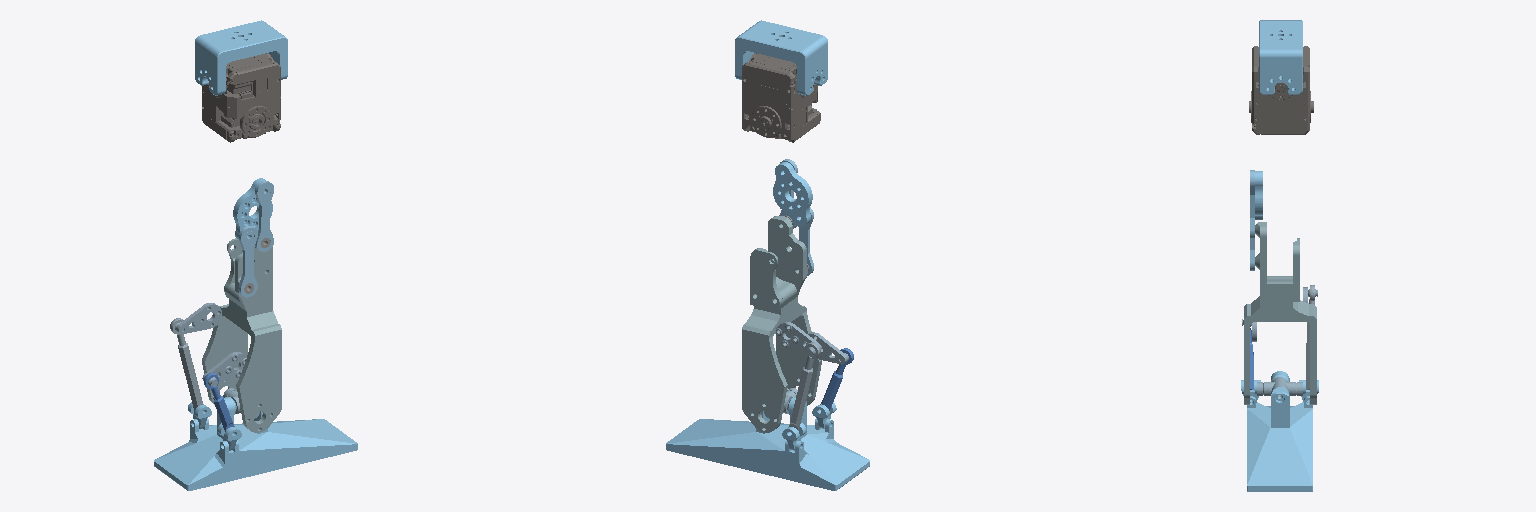
--- Facts derived from the render (not from the file) ---
3 views of the same robot in one strip: view 1: azimuth 30°, elevation 25°; view 2: azimuth 150°, elevation 25°; view 3: azimuth 270°, elevation 25° (orthographic).
Robot: left_leg_XM430 — 17 links, 16 joints (16 revolute); root link hip_yaw_link; default pose: all joints at 0.
Visible links, largest first — view 1: left_calf_link, ank_roll_link, hip_roll_link, hip_yaw_link, xm430_plate, knee_rod_2, knee_rod, ank_motor_rod_long, ank_motor_arm, ank_motor_arm_2, ank_motor_rod_short; view 2: left_calf_link, ank_roll_link, hip_roll_link, hip_yaw_link, xm430_plate, ank_motor_rod_long, ank_motor_arm, ank_motor_rod_short, ank_motor_arm_2; view 3: ank_roll_link, left_calf_link, hip_roll_link, hip_yaw_link, ank_pitch_link.
Boxes of the visible links, <box> form: left_calf_link: <box>202,234,281,432</box>; ank_roll_link: <box>154,397,357,490</box>; hip_roll_link: <box>202,53,280,142</box>; hip_yaw_link: <box>195,20,287,95</box>; xm430_plate: <box>233,178,272,239</box>; knee_rod_2: <box>238,226,257,297</box>; knee_rod: <box>255,180,273,251</box>; ank_motor_rod_long: <box>170,318,202,411</box>; ank_motor_arm: <box>175,303,221,333</box>; ank_motor_arm_2: <box>202,352,246,386</box>; ank_motor_rod_short: <box>204,373,234,431</box>; left_calf_link: <box>742,216,821,432</box>; ank_roll_link: <box>666,397,869,490</box>; hip_roll_link: <box>742,53,820,142</box>; hip_yaw_link: <box>735,20,827,95</box>; xm430_plate: <box>773,162,812,226</box>; ank_motor_rod_long: <box>789,342,820,430</box>; ank_motor_arm: <box>776,322,821,355</box>; ank_motor_rod_short: <box>821,348,853,410</box>; ank_motor_arm_2: <box>804,332,848,364</box>; ank_roll_link: <box>1247,371,1312,491</box>; left_calf_link: <box>1244,222,1316,404</box>; hip_roll_link: <box>1249,46,1313,134</box>; hip_yaw_link: <box>1259,20,1302,94</box>; ank_pitch_link: <box>1257,377,1302,396</box>.
Size in the robot's own frame: 0.12 by 0.0488 by 0.285 metres.
16 mesh visuals loaded from 17 distinct referenced files (16 binary STL); not drawn: 1 (reference not matched to a file when rendering).

The robot description file, URDF, robot "left_leg_XM430":
<?xml version="1.0" ?><robot name="left_leg_XM430">  
  <link name="hip_yaw_link">    
    <visual>      
      <origin xyz="0 0 0" rpy="0 -0 0"/>      
      <geometry>        
        <mesh filename="package:///meshes/left_hip_yaw_link_visual.stl"/>        
      </geometry>      
      <material name="hip_yaw_link_material">        
        <color rgba="0.61568627450980395466 0.81176470588235294379 0.92941176470588238168 1.0"/>        
      </material>      
    </visual>    
    <collision>      
      <origin xyz="0 0 0" rpy="0 -0 0"/>      
      <geometry>        
        <mesh filename="package:///meshes/left_hip_yaw_link_collision.stl"/>        
      </geometry>      
    </collision>    
    <inertial>      
      <origin xyz="-2.6052892110043261802e-19 -4.5779561945300561906e-19 -0.0098390489054829104176" rpy="0 0 0"/>      
      <mass value="0.017999999999999988232"/>      
      <inertia ixx="2.6385033891442523914e-06" ixy="0" ixz="0" iyy="7.6596731957046873405e-06" iyz="0" izz="7.7220708070894735956e-06"/>      
    </inertial>    
  </link>  

  <link name="hip_roll_link">    
    <visual>      
      <origin xyz="0 0 0" rpy="0 -0 0"/>      
      <geometry>        
        <mesh filename="package:///meshes/left_hip_roll_link_visual.stl"/>        
      </geometry>      
      <material name="hip_roll_link_material">        
        <color rgba="0.51698661238356047321 0.50347815951093488618 0.49050589017722012741 1.0"/>        
      </material>      
    </visual>    
    <collision>      
      <origin xyz="0 0 0" rpy="0 -0 0"/>      
      <geometry>        
        <mesh filename="package:///meshes/left_hip_roll_link_collision.stl"/>        
      </geometry>      
    </collision>    
    <inertial>      
      <origin xyz="-0.011999849582186344205 -0.00049598090793799955514 -0.018504111838598794743" rpy="0 0 0"/>      
      <mass value="0.11059999999836234164"/>      
      <inertia ixx="2.2818802599019123213e-05" ixy="-4.6520143286798432356e-08" ixz="-4.6888548260596792068e-08" iyy="3.0871632082339373363e-05" iyz="-5.7477343899716644859e-07" izz="3.0871666424470007293e-05"/>      
    </inertial>    
  </link>  

  <link name="left_hip_pitch_link_xm430">    
    <visual>      
      <origin xyz="0 0 0" rpy="0 -0 0"/>      
      <geometry>        
        <mesh filename="package:///meshes/left_hip_pitch_link_xm430_visual.stl"/>        
      </geometry>      
      <material name="left_hip_pitch_link_xm430_material">        
        <color rgba="0.87072221357329560032 0.72641010956094276274 0.24785169615220706274 1.0"/>        
      </material>      
    </visual>    
    <collision>      
      <origin xyz="0 0 0" rpy="0 -0 0"/>      
      <geometry>        
        <mesh filename="package:///meshes/left_hip_pitch_link_xm430_collision.stl"/>        
      </geometry>      
    </collision>    
    <inertial>      
      <origin xyz="-0.00075729214155315050742 -0.050714785675264821563 -0.012656155119959915795" rpy="0 0 0"/>      
      <mass value="0.11480090135030569798"/>      
      <inertia ixx="6.6072773889430024214e-05" ixy="-4.6080149277727762285e-07" ixz="-1.8170739115308462457e-07" iyy="2.3633638685369530631e-05" iyz="1.4125253925343164532e-06" izz="6.2221728804333383662e-05"/>      
    </inertial>    
  </link>  

  <link name="left_calf_link">    
    <visual>      
      <origin xyz="0 0 0" rpy="0 -0 0"/>      
      <geometry>        
        <mesh filename="package:///meshes/left_calf_link_visual.stl"/>        
      </geometry>      
      <material name="left_calf_link_material">        
        <color rgba="0.616547745550632742 0.7175754134247219751 0.74372657889541438081 1.0"/>        
      </material>      
    </visual>    
    <collision>      
      <origin xyz="0 0 0" rpy="0 -0 0"/>      
      <geometry>        
        <mesh filename="package:///meshes/left_calf_link_collision.stl"/>        
      </geometry>      
    </collision>    
    <inertial>      
      <origin xyz="0.0016330556739555508825 -0.050045528174708635294 -0.0099079425125447578154" rpy="0 0 0"/>      
      <mass value="0.086799999986183581924"/>      
      <inertia ixx="4.950945987320032126e-05" ixy="3.6911110041724887421e-06" ixz="4.181905803998413212e-07" iyy="1.5531229037964085102e-05" iyz="4.6309763568422332319e-07" izz="5.3138661991212950706e-05"/>      
    </inertial>    
  </link>  

  <link name="bearing_683">    
    <visual>      
      <origin xyz="0 0 0" rpy="0 -0 0"/>      
      <geometry>        
        <mesh filename="package:///meshes/left_bearing_683_visual.stl"/>        
      </geometry>      
      <material name="bearing_683_material">        
        <color rgba="0.64705882352941179736 0.64705882352941179736 0.64705882352941179736 1.0"/>        
      </material>      
    </visual>    
    <collision>      
      <origin xyz="0 0 0" rpy="0 -0 0"/>      
      <geometry>        
        <mesh filename="package:///meshes/left_bearing_683_collision.stl"/>        
      </geometry>      
    </collision>    
    <inertial>      
      <origin xyz="1.0732094295242497084e-19 -2.4186774283160283989e-19 -0.0015500000000000003792" rpy="0 0 0"/>      
      <mass value="0.00048694686130641793437"/>      
      <inertia ixx="2.1551456503319879113e-09" ixy="2.3666528901256796113e-27" ixz="2.0889236366122119332e-38" iyy="2.1551456503319891521e-09" iyz="1.3744560845328921415e-38" izz="3.5303647444715305817e-09"/>      
    </inertial>    
  </link>  

  <joint name="left_knee_front_rev_2" type="revolute">    
    <origin xyz="-0.0057402514854770240668 0.013858192987668910279 -0.026200000000000563116" rpy="2.0453876360821841634e-16 7.1068359470475064937e-16 1.5765314753541341819"/>    
    <parent link="left_calf_link"/>    
    <child link="bearing_683"/>    
    <axis xyz="0 0 1"/>    
    <limit effort="1" velocity="20" lower="-6.283185307179586232" upper="6.283185307179586232"/>    
    <joint_properties friction="0.0"/>    
  </joint>  

  <link name="bearing_683_2">    
    <visual>      
      <origin xyz="0 0 0" rpy="0 -0 0"/>      
      <geometry>        
        <mesh filename="package:///meshes/left_bearing_683_2_visual.stl"/>        
      </geometry>      
      <material name="bearing_683_2_material">        
        <color rgba="0.64705882352941179736 0.64705882352941179736 0.64705882352941179736 1.0"/>        
      </material>      
    </visual>    
    <collision>      
      <origin xyz="0 0 0" rpy="0 -0 0"/>      
      <geometry>        
        <mesh filename="package:///meshes/left_bearing_683_2_collision.stl"/>        
      </geometry>      
    </collision>    
    <inertial>      
      <origin xyz="1.0732094295248846635e-19 -2.4186774283160375471e-19 -0.0015500000000000003792" rpy="0 0 0"/>      
      <mass value="0.00048694686130641793437"/>      
      <inertia ixx="2.1551456503319887385e-09" ixy="-1.3855900387721121507e-27" ixz="-1.9257410757015346214e-37" iyy="2.1551456503319874977e-09" iyz="-2.8124792185573659681e-39" izz="3.5303647444715305817e-09"/>      
    </inertial>    
  </link>  

  <joint name="left_knee_back_rev_2" type="revolute">    
    <origin xyz="0.0057402514854760517543 -0.013858192987669437635 -0.026200000000000216172" rpy="2.8877467674261435159e-16 -6.2660216643685709814e-15 1.5765686202203079702"/>    
    <parent link="left_calf_link"/>    
    <child link="bearing_683_2"/>    
    <axis xyz="0 0 1"/>    
    <limit effort="1" velocity="20" lower="-6.283185307179586232" upper="6.283185307179586232"/>    
    <joint_properties friction="0.0"/>    
  </joint>  

  <link name="ank_pitch_link">    
    <visual>      
      <origin xyz="0 0 0" rpy="0 -0 0"/>      
      <geometry>        
        <mesh filename="package:///meshes/left_ank_pitch_link_visual.stl"/>        
      </geometry>      
      <material name="ank_pitch_link_material">        
        <color rgba="0.63189161126160264814 0.7266866879354088038 0.78356373393969258601 1.0"/>        
      </material>      
    </visual>    
    <collision>      
      <origin xyz="0 0 0" rpy="0 -0 0"/>      
      <geometry>        
        <mesh filename="package:///meshes/left_ank_pitch_link_collision.stl"/>        
      </geometry>      
    </collision>    
    <inertial>      
      <origin xyz="0.00059528282565903347691 -4.0269677046895822506e-08 7.7616091227946370715e-08" rpy="0 0 0"/>      
      <mass value="0.0042238381753791614387"/>      
      <inertia ixx="3.9782741364681224752e-07" ixy="-1.6834347544690341436e-13" ixz="2.09191870411591794e-14" iyy="4.3705254067426624596e-07" iyz="-1.6428821654626687343e-12" izz="8.8858574534620810897e-08"/>      
    </inertial>    
  </link>  

  <link name="ank_roll_link">    
    <visual>      
      <origin xyz="0 0 0" rpy="0 -0 0"/>      
      <geometry>        
        <mesh filename="package:///meshes/left_ank_roll_link_visual.stl"/>        
      </geometry>      
      <material name="ank_roll_link_material">        
        <color rgba="0.61568627450980395466 0.81176470588235294379 0.92941176470588227065 1.0"/>        
      </material>      
    </visual>    
    <collision>      
      <origin xyz="0 0 0" rpy="0 -0 0"/>      
      <geometry>        
        <mesh filename="package:///meshes/left_ank_roll_link_collision.stl"/>        
      </geometry>      
    </collision>    
    <inertial>      
      <origin xyz="-3.2206255610852245098e-10 0.030487683096149076345 0.0047792578419041014184" rpy="0 0 0"/>      
      <mass value="0.027200000000000008893"/>      
      <inertia ixx="2.2943463470325727e-05" ixy="-2.0167229481717782239e-13" ixz="4.0806229578615089115e-12" iyy="2.5276617323505065215e-05" iyz="-7.4169474455435566413e-07" izz="5.0976619075837788231e-06"/>      
    </inertial>    
  </link>  

  <link name="ank_rr_link">    
    <visual>      
      <origin xyz="0 0 0" rpy="0 -0 0"/>      
      <geometry>        
        <mesh filename="package:///meshes/left_ank_rr_link_visual.stl"/>        
      </geometry>      
      <material name="ank_rr_link_material">        
        <color rgba="0.61568627450980395466 0.81176470588235294379 0.92941176470588238168 1.0"/>        
      </material>      
    </visual>    
    <collision>      
      <origin xyz="0 0 0" rpy="0 -0 0"/>      
      <geometry>        
        <mesh filename="package:///meshes/left_ank_rr_link_collision.stl"/>        
      </geometry>      
    </collision>    
    <inertial>      
      <origin xyz="-4.5249610960606115111e-05 0.00630964298363145739 -2.0009406464642610885e-19" rpy="0 0 0"/>      
      <mass value="0.0014499999999999999001"/>      
      <inertia ixx="2.9739579267716143416e-08" ixy="2.4213146797977855138e-10" ixz="3.5523394884432783644e-14" iyy="2.7430027724071957055e-08" iyz="-9.8997471197656441548e-32" izz="4.2921949116163672436e-08"/>      
    </inertial>    
  </link>  

  <link name="ank_motor_rod_long">    
    <visual>      
      <origin xyz="0 0 0" rpy="0 -0 0"/>      
      <geometry>        
        <mesh filename="package:///meshes/left_ank_motor_rod_long_visual.stl"/>        
      </geometry>      
      <material name="ank_motor_rod_long_material">        
        <color rgba="0.63549975559783222767 0.7077439301702044272 0.75109043491362770251 1.0"/>        
      </material>      
    </visual>    
    <collision>      
      <origin xyz="0 0 0" rpy="0 -0 0"/>      
      <geometry>        
        <mesh filename="package:///meshes/left_ank_motor_rod_long_collision.stl"/>        
      </geometry>      
    </collision>    
    <inertial>      
      <origin xyz="2.485508918145648815e-10 0.034559019974062257785 0.00093851704878453840689" rpy="0 0 0"/>      
      <mass value="0.0021712857268636710437"/>      
      <inertia ixx="8.535029005800039023e-07" ixy="1.4884244732590480163e-14" ixz="4.5749525025589543898e-11" iyy="1.3237321792739536015e-08" iyz="-4.3668910960857039398e-09" izz="8.5812217519451768749e-07"/>      
    </inertial>    
  </link>  

  <joint name="left_ank_long_rev_2" type="revolute">    
    <origin xyz="2.4286128663675299322e-17 0.0099999999999992872368 1.3947176746853529039e-15" rpy="-1.5707963267948974462 1.3320366994105963254 -1.5707963267949054398"/>    
    <parent link="ank_rr_link"/>    
    <child link="ank_motor_rod_long"/>    
    <axis xyz="0 0 1"/>    
    <limit effort="1" velocity="20" lower="-1.570796326794896558" upper="1.570796326794896558"/>    
    <joint_properties friction="0.0"/>    
  </joint>  

  <joint name="left_ank_long_rev_1" type="revolute">    
    <origin xyz="-0.018000000000000064559 0.015999999999999292566 -0.020600000000001391504" rpy="-2.876394309884160705e-16 1.6317439732762683578e-16 3.1233695685467286474"/>    
    <parent link="ank_roll_link"/>    
    <child link="ank_rr_link"/>    
    <axis xyz="0 0 1"/>    
    <limit effort="1" velocity="20" lower="-1.570796326794896558" upper="1.570796326794896558"/>    
    <joint_properties friction="0.0"/>    
  </joint>  

  <link name="ank_rr_link_2">    
    <visual>      
      <origin xyz="0 0 0" rpy="0 -0 0"/>      
      <geometry>        
        <mesh filename="package:///meshes/left_ank_rr_link_2_visual.stl"/>        
      </geometry>      
      <material name="ank_rr_link_2_material">        
        <color rgba="0.61568627450980395466 0.81176470588235294379 0.92941176470588238168 1.0"/>        
      </material>      
    </visual>    
    <collision>      
      <origin xyz="0 0 0" rpy="0 -0 0"/>      
      <geometry>        
        <mesh filename="package:///meshes/left_ank_rr_link_2_collision.stl"/>        
      </geometry>      
    </collision>    
    <inertial>      
      <origin xyz="-4.5249610960599155889e-05 -0.0063096429836314027462 3.6695410166003840762e-18" rpy="0 0 0"/>      
      <mass value="0.0014499999999999999001"/>      
      <inertia ixx="2.9739579267716150033e-08" ixy="-2.4213146797977875817e-10" ixz="-3.5523394884432789955e-14" iyy="2.7430027724071957055e-08" iyz="-6.0455732447540710973e-32" izz="4.2921949116163672436e-08"/>      
    </inertial>    
  </link>  

  <link name="ank_motor_rod_short">    
    <visual>      
      <origin xyz="0 0 0" rpy="0 -0 0"/>      
      <geometry>        
        <mesh filename="package:///meshes/left_ank_motor_rod_short_visual.stl"/>        
      </geometry>      
      <material name="ank_motor_rod_short_material">        
        <color rgba="0.41222606689734719865 0.58339100346020766885 0.8110726643598615837 1.0"/>        
      </material>      
    </visual>    
    <collision>      
      <origin xyz="0 0 0" rpy="0 -0 0"/>      
      <geometry>        
        <mesh filename="package:///meshes/left_ank_motor_rod_short_collision.stl"/>        
      </geometry>      
    </collision>    
    <inertial>      
      <origin xyz="2.6038941310109507631e-10 0.023830465465870951519 0.00090403506359623014323" rpy="0 0 0"/>      
      <mass value="0.0017000000000000001221"/>      
      <inertia ixx="3.3153416252670235948e-07" ixy="8.7419768620623363038e-15" ixz="4.5749941567727589348e-11" iyy="1.0947363610305772565e-08" iyz="-3.5863098646405051489e-09" izz="3.3621340447865384922e-07"/>      
    </inertial>    
  </link>  

  <joint name="left_ank_short_rev_2" type="revolute">    
    <origin xyz="0 -0.0099999999999998978595 0" rpy="-1.570796326794896558 -1.2119133862909823307 -1.570796326794896336"/>    
    <parent link="ank_rr_link_2"/>    
    <child link="ank_motor_rod_short"/>    
    <axis xyz="0 0 1"/>    
    <limit effort="1" velocity="20" lower="-1.570796326794896558" upper="1.570796326794896558"/>    
    <joint_properties friction="0.0"/>    
  </joint>  

  <joint name="left_ank_short_rev_1" type="revolute">    
    <origin xyz="0.017999999999999953537 0.016000000000000014211 -0.020600000000000010664" rpy="4.2172831995673088897e-16 -4.4678623027074358005e-17 0.026118548507422217203"/>    
    <parent link="ank_roll_link"/>    
    <child link="ank_rr_link_2"/>    
    <axis xyz="0 0 1"/>    
    <limit effort="1" velocity="20" lower="-1.570796326794896558" upper="1.570796326794896558"/>    
    <joint_properties friction="0.0"/>    
  </joint>  

  <joint name="left_ank_roll" type="revolute">    
    <origin xyz="0.0014999999999999995975 0 -1.5395670849294162963e-17" rpy="9.9573127520767875392e-16 1.570796326794891673 0"/>    
    <parent link="ank_pitch_link"/>    
    <child link="ank_roll_link"/>    
    <axis xyz="0 0 1"/>    
    <limit effort="1" velocity="20" lower="-0.785398163397448279" upper="0.785398163397448279"/>    
    <joint_properties friction="0.0"/>    
  </joint>  

  <joint name="left_ank_pitch" type="revolute">    
    <origin xyz="1.5349482163618395221e-15 -0.099999999999999339417 -0.01039999999999923451" rpy="1.0427422814103565708e-14 3.7115492970717391096e-15 3.1415926535897922278"/>    
    <parent link="left_calf_link"/>    
    <child link="ank_pitch_link"/>    
    <axis xyz="0 0 1"/>    
    <limit effort="1" velocity="20" lower="-1.0471975511965976313" upper="0.785398163397448279"/>    
    <joint_properties friction="0.0"/>    
  </joint>  

  <link name="ank_motor_arm">    
    <visual>      
      <origin xyz="0 0 0" rpy="0 -0 0"/>      
      <geometry>        
        <mesh filename="package:///meshes/left_ank_motor_arm_visual.stl"/>        
      </geometry>      
      <material name="ank_motor_arm_material">        
        <color rgba="0.62483822591633164656 0.70971956673896574586 0.76585356440212004614 1.0"/>        
      </material>      
    </visual>    
    <collision>      
      <origin xyz="0 0 0" rpy="0 -0 0"/>      
      <geometry>        
        <mesh filename="package:///meshes/left_ank_motor_arm_collision.stl"/>        
      </geometry>      
    </collision>    
    <inertial>      
      <origin xyz="0.014032842952293513375 -1.1875681051906339057e-09 0.0040383546575275958146" rpy="0 0 0"/>      
      <mass value="0.0021359401157891211472"/>      
      <inertia ixx="2.9209776528328194436e-08" ixy="-4.6752002052090677473e-14" ixz="-3.1659407525131264056e-08" iyy="1.7718014185775920105e-07" iyz="-2.5844348438515616861e-15" izz="1.8139327643022061737e-07"/>      
    </inertial>    
  </link>  

  <joint name="left_ank_act_1" type="revolute">    
    <origin xyz="0.013500000000001635692 -0.044499999999992628785 0.0040000000000077733792" rpy="-5.7683923736819409867e-13 -7.5455504046046331278e-14 -0.21173394130254355461"/>    
    <parent link="left_calf_link"/>    
    <child link="ank_motor_arm"/>    
    <axis xyz="0 0 1"/>    
    <limit effort="1" velocity="20" lower="-1.3089969389957472057" upper="1.3089969389957472057"/>    
    <joint_properties friction="0.0"/>    
  </joint>  

  <link name="ank_motor_arm_2">    
    <visual>      
      <origin xyz="0 0 0" rpy="0 -0 0"/>      
      <geometry>        
        <mesh filename="package:///meshes/left_ank_motor_arm_2_visual.stl"/>        
      </geometry>      
      <material name="ank_motor_arm_2_material">        
        <color rgba="0.62483822591633164656 0.70971956673896574586 0.76585356440212004614 1.0"/>        
      </material>      
    </visual>    
    <collision>      
      <origin xyz="0 0 0" rpy="0 -0 0"/>      
      <geometry>        
        <mesh filename="package:///meshes/left_ank_motor_arm_2_collision.stl"/>        
      </geometry>      
    </collision>    
    <inertial>      
      <origin xyz="0.014032842952293501232 -1.1875680925106995778e-09 0.0040383546575276053556" rpy="0 0 0"/>      
      <mass value="0.0021359401157891211472"/>      
      <inertia ixx="2.9209776528328022382e-08" ixy="-4.6752001844237150679e-14" ixz="-3.165940752513130376e-08" iyy="1.7718014185775885694e-07" iyz="-2.5844347879891186066e-15" izz="1.8139327643022061737e-07"/>      
    </inertial>    
  </link>  

  <joint name="left_ank_act_2" type="revolute">    
    <origin xyz="0.013500000000005811171 -0.064499999999988344435 -0.024800000000003163264" rpy="-3.1415926535893312632 1.9218128864630526701e-14 -0.22995607267384915451"/>    
    <parent link="left_calf_link"/>    
    <child link="ank_motor_arm_2"/>    
    <axis xyz="0 0 1"/>    
    <limit effort="1" velocity="20" lower="-1.3089969389957472057" upper="1.3089969389957472057"/>    
    <joint_properties friction="0.0"/>    
  </joint>  

  <joint name="left_knee_pitch" type="revolute">    
    <origin xyz="3.1436708451941898537e-17 -0.096000000000000001998 -0.0092000000000000154571" rpy="5.2388648972145238601e-16 -5.3048676098335846568e-16 -5.5511151227572361317e-17"/>    
    <parent link="left_hip_pitch_link_xm430"/>    
    <child link="left_calf_link"/>    
    <axis xyz="0 0 1"/>    
    <limit effort="1" velocity="20" lower="0" upper="1.9198621771937625091"/>    
    <joint_properties friction="0.0"/>    
  </joint>  

  <link name="xm430_plate">    
    <visual>      
      <origin xyz="0 0 0" rpy="0 -0 0"/>      
      <geometry>        
        <mesh filename="package:///meshes/left_xm430_plate_visual.stl"/>        
      </geometry>      
      <material name="xm430_plate_material">        
        <color rgba="0.61568627450980395466 0.81176470588235294379 0.9294117647058824927 1.0"/>        
      </material>      
    </visual>    
    <collision>      
      <origin xyz="0 0 0" rpy="0 -0 0"/>      
      <geometry>        
        <mesh filename="package:///meshes/left_xm430_plate_collision.stl"/>        
      </geometry>      
    </collision>    
    <inertial>      
      <origin xyz="3.3859260150270524496e-18 2.0528781890801290596e-18 -0.0024039046431217955119" rpy="0 0 0"/>      
      <mass value="0.0026999999999999992756"/>      
      <inertia ixx="1.293311664536341083e-07" ixy="-6.8936588702566413944e-08" ixz="5.4735536363229128674e-35" iyy="2.672043438587668303e-07" iyz="-6.5325103416928993699e-36" izz="3.8533537562751439267e-07"/>      
    </inertial>    
  </link>  

  <link name="knee_rod">    
    <visual>      
      <origin xyz="0 0 0" rpy="0 -0 0"/>      
      <geometry>        
        <mesh filename="package:///meshes/left_knee_rod_visual.stl"/>        
      </geometry>      
      <material name="knee_rod_material">        
        <color rgba="0.62051618944235198416 0.78640765248647581664 0.88594253031295022716 1.0"/>        
      </material>      
    </visual>    
    <collision>      
      <origin xyz="0 0 0" rpy="0 -0 0"/>      
      <geometry>        
        <mesh filename="package:///meshes/left_knee_rod_collision.stl"/>        
      </geometry>      
    </collision>    
    <inertial>      
      <origin xyz="0.014594549254227703189 -4.0495174182604799708e-05 -0.0015996227373190293787" rpy="0 0 0"/>      
      <mass value="0.0031629468613064179276"/>      
      <inertia ixx="2.5896066719679945792e-08" ixy="3.4015849028409630471e-10" ixz="4.1682980135095627253e-10" iyy="6.015325433306769779e-07" iyz="-1.1565684637535341676e-12" izz="6.2266854577246018566e-07"/>      
    </inertial>    
  </link>  

  <joint name="left_knee_front_rev_1" type="revolute">    
    <origin xyz="0.013858192987669312735 0.0057402514854763336469 -0.0049999999999999836242" rpy="-9.4192987622433650731e-16 3.8593656109062736187e-16 -3.1358575050305752541"/>    
    <parent link="xm430_plate"/>    
    <child link="knee_rod"/>    
    <axis xyz="0 0 1"/>    
    <limit effort="1" velocity="20" lower="-6.283185307179586232" upper="6.283185307179586232"/>    
    <joint_properties friction="0.0"/>    
  </joint>  

  <link name="knee_rod_2">    
    <visual>      
      <origin xyz="0 0 0" rpy="0 -0 0"/>      
      <geometry>        
        <mesh filename="package:///meshes/left_knee_rod_2_visual.stl"/>        
      </geometry>      
      <material name="knee_rod_2_material">        
        <color rgba="0.62051618944235198416 0.78640765248647581664 0.88594253031295022716 1.0"/>        
      </material>      
    </visual>    
    <collision>      
      <origin xyz="0 0 0" rpy="0 -0 0"/>      
      <geometry>        
        <mesh filename="package:///meshes/left_knee_rod_2_collision.stl"/>        
      </geometry>      
    </collision>    
    <inertial>      
      <origin xyz="0.014594547729902918737 -4.1579390108021769244e-05 -0.0015996227373185551487" rpy="0 0 0"/>      
      <mass value="0.0031629468613064179276"/>      
      <inertia ixx="2.5896117936396398863e-08" ixy="3.4926584154272074411e-10" ixz="4.1682975780794631615e-10" iyy="6.0153251772212437219e-07" iyz="-1.1875343734383760925e-12" izz="6.2266857138059509825e-07"/>      
    </inertial>    
  </link>  

  <joint name="left_knee_back_rev_1" type="revolute">    
    <origin xyz="-0.013858192987669284979 -0.0057402514854763449226 -0.0050000000000000009714" rpy="-1.240696991414760872e-15 6.8873592505729608146e-15 -3.1358203601644016878"/>    
    <parent link="xm430_plate"/>    
    <child link="knee_rod_2"/>    
    <axis xyz="0 0 1"/>    
    <limit effort="1" velocity="20" lower="-6.283185307179586232" upper="6.283185307179586232"/>    
    <joint_properties friction="0.0"/>    
  </joint>  

  <joint name="left_knee_act" type="revolute">    
    <origin xyz="-0.00015000000000007682969 -0.061499999999999728495 -0.030399999999999843814" rpy="-1.3864621477766001324e-15 9.2520451941214004081e-17 1.5707963267949205388"/>    
    <parent link="left_hip_pitch_link_xm430"/>    
    <child link="xm430_plate"/>    
    <axis xyz="0 0 1"/>    
    <limit effort="1" velocity="20" lower="0" upper="1.9198621771937625091"/>    
    <joint_properties friction="0.0"/>    
  </joint>  

  <joint name="left_hip_pitch" type="revolute">    
    <origin xyz="-0.024000000716155701214 -0.019000000152439879691 -0.019000000152457872243" rpy="1.570796326795379283 1.5707963267945606045 0"/>    
    <parent link="hip_roll_link"/>    
    <child link="left_hip_pitch_link_xm430"/>    
    <axis xyz="0 0 1"/>    
    <limit effort="1" velocity="20" lower="-1.570796326794896558" upper="1.570796326794896558"/>    
    <joint_properties friction="0.0"/>    
  </joint>  

  <joint name="left_hip_roll" type="revolute">    
    <origin xyz="0.018999999999999999528 -3.3500438890366171686e-18 -0.026000000000000002276" rpy="3.141592653589793116 -1.5707963267948930053 0"/>    
    <parent link="hip_yaw_link"/>    
    <child link="hip_roll_link"/>    
    <axis xyz="0 0 1"/>    
    <limit effort="1" velocity="20" lower="-0.785398163397448279" upper="0.785398163397448279"/>    
    <joint_properties friction="0.0"/>    
  </joint>  


</robot>
